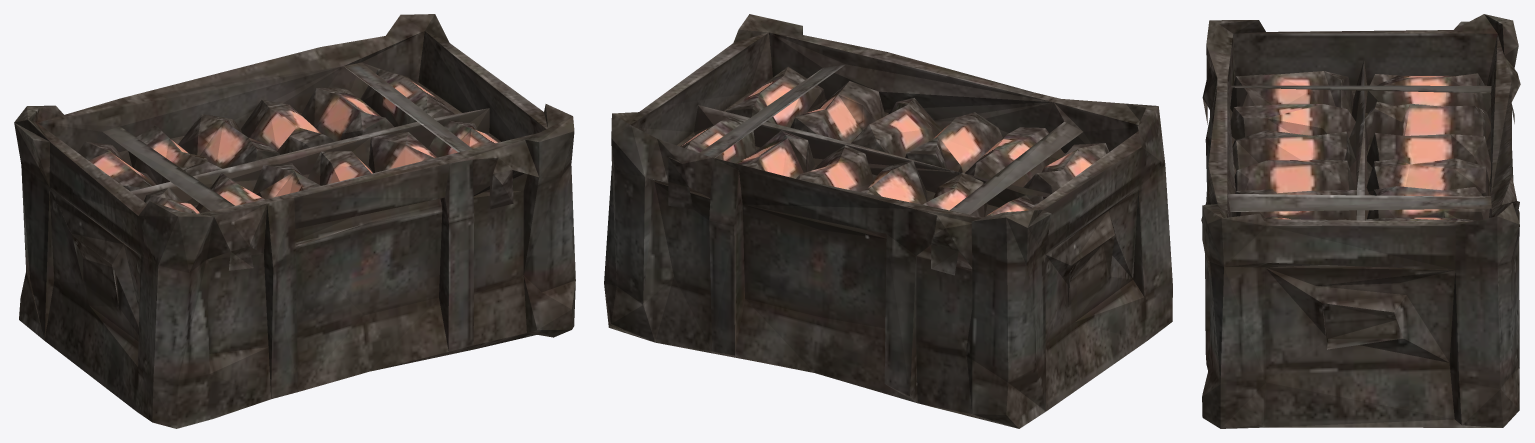
File: node.fuel_deposit.glb
3 views of the same model, side by side, from view 1: azimuth 30°, elevation 25°; view 2: azimuth 150°, elevation 25°; view 3: azimuth 270°, elevation 25° (orthographic).
Visible parts, largest first — view 1: body; view 2: body; view 3: body.
Part boxes in pixels (x1,y1,x2,y2): body: (14,14,575,428); body: (604,14,1172,428); body: (1201,14,1520,428).
Bounding box in the file's own units: 1.4 × 0.6651 × 0.9038.
1 material, 1 textured.
